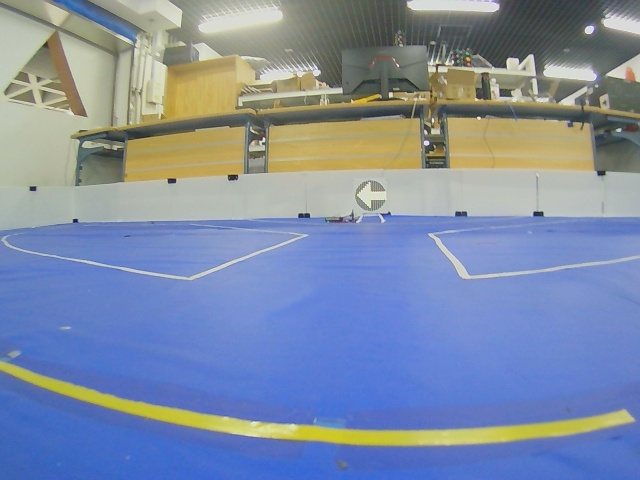left_yellow: (355, 180, 387, 211)
